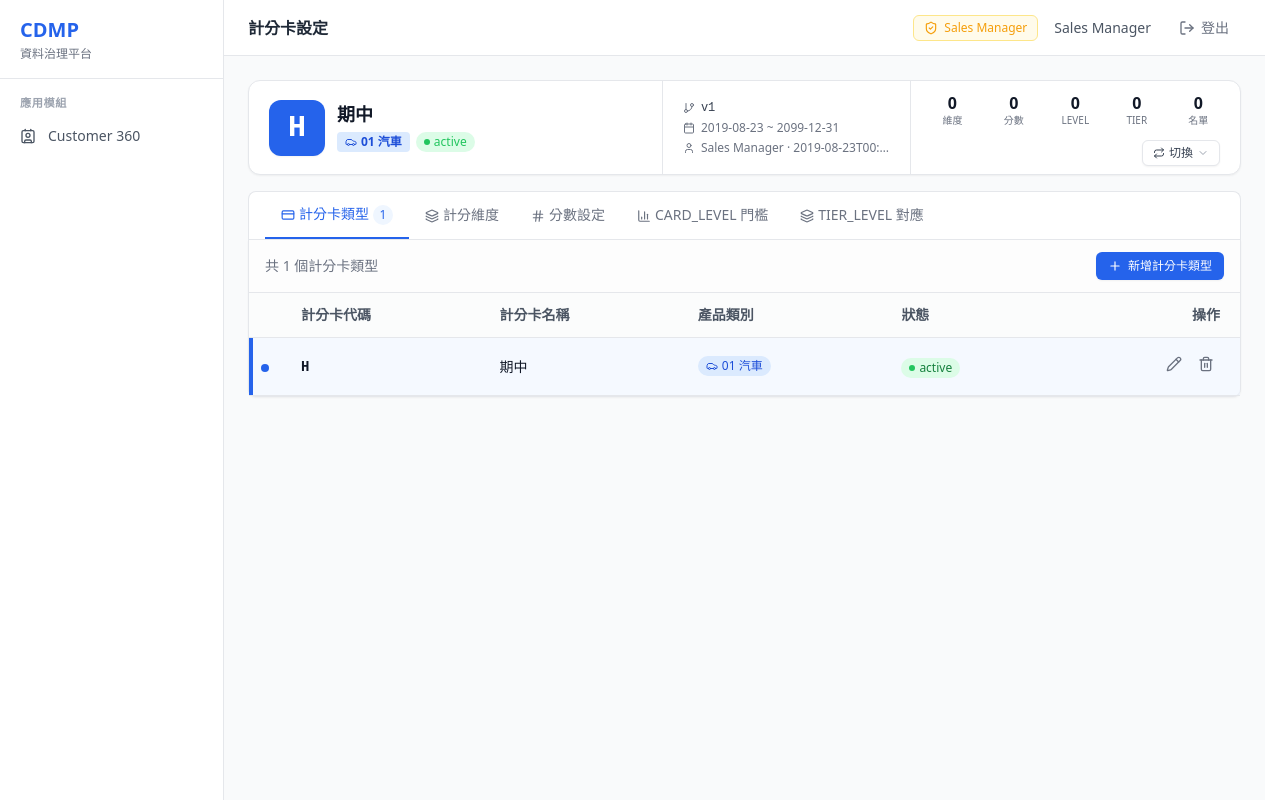
it: ScoringConfigPage — F054 寫入互動 › TS-F054-019：點擊「新增維度」開啟 Modal，必填驗證
Expected: the row with test id "card-type-row-H" is shown, [249,338,1240,396]
Click the button with test id "tab-dim": point(462, 216) [409,192,515,238]
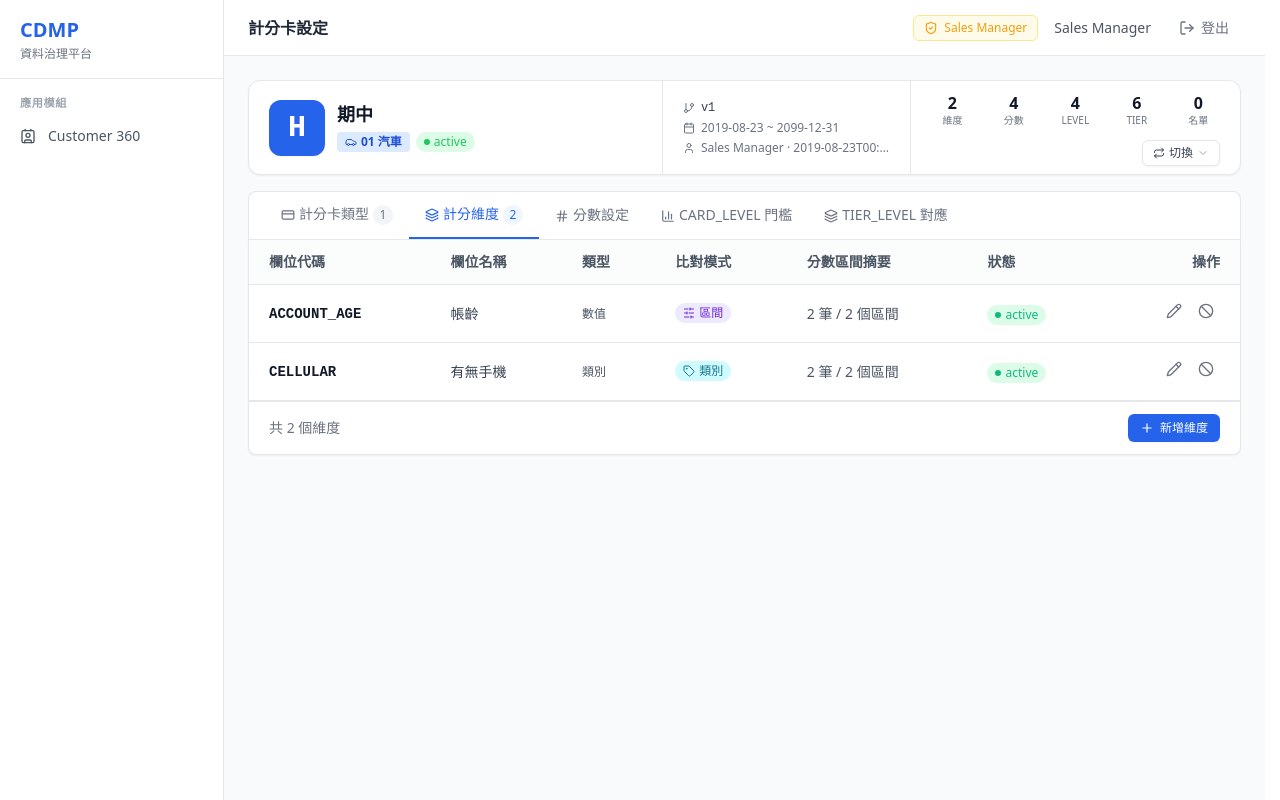
Now the button with test id "btn-add-dim" is shown
Click the button with test id "btn-add-dim": point(1174, 428) [1128,414,1220,442]
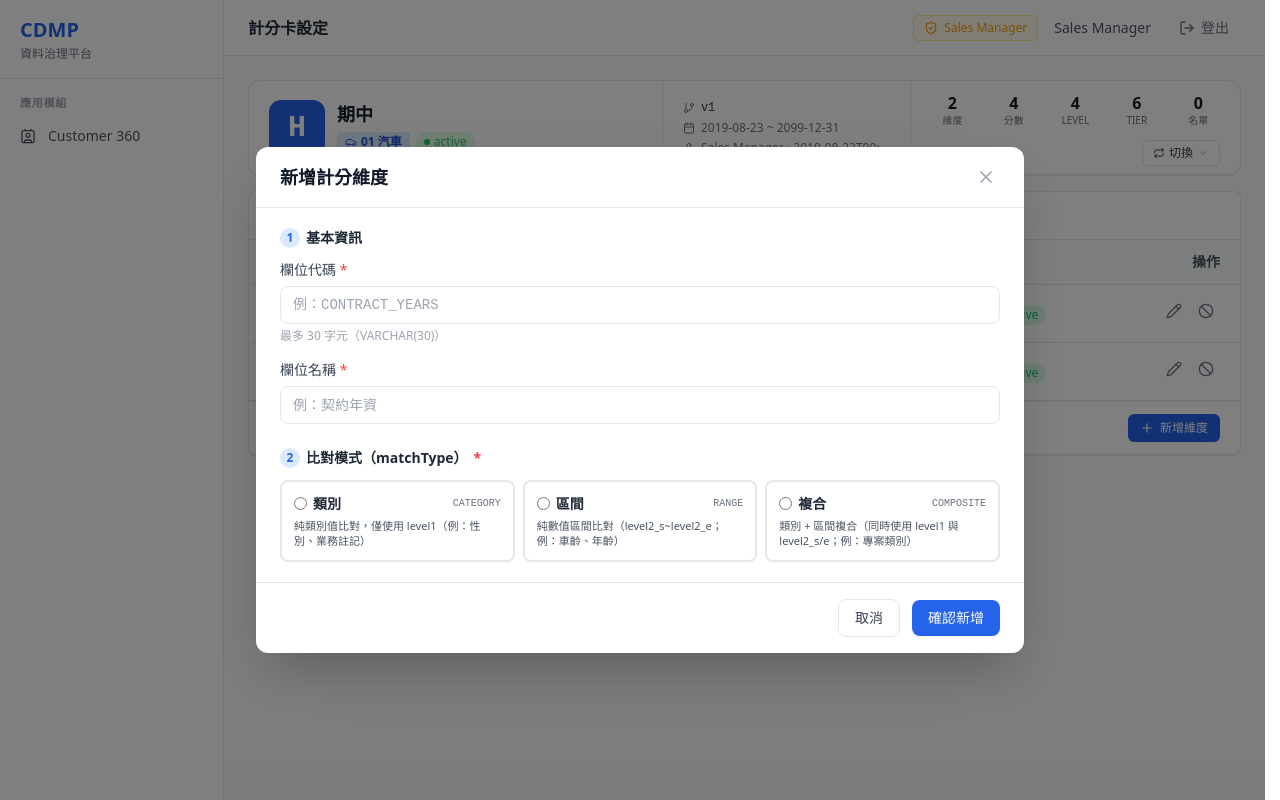
Now the element with test id "dim-modal" is shown, box [256,147,1024,653]
Click the button with test id "dim-modal-submit": point(956, 618) [912,600,1000,636]
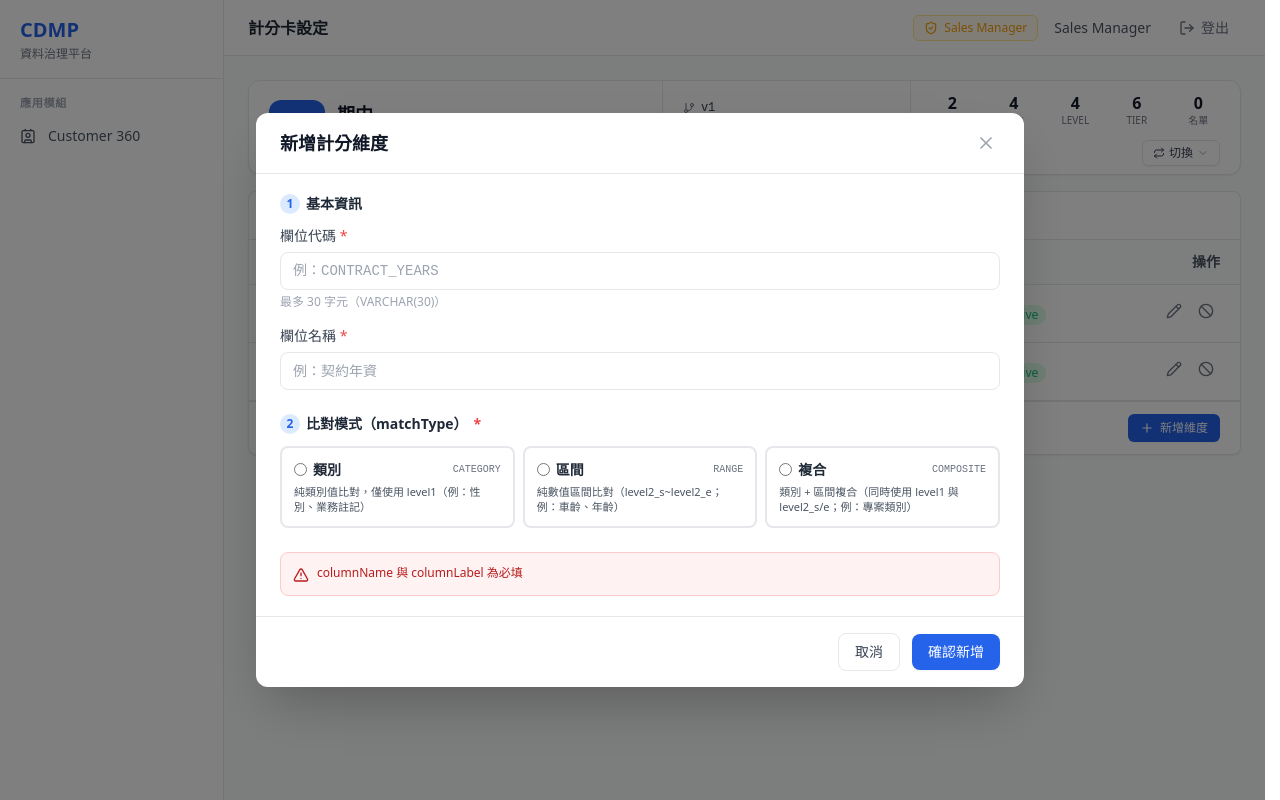
Now the element with test id "dim-modal-error" is shown, box [280,552,1000,596]
Now the element with test id "dim-modal-error" shows "columnName", box [317,564,523,581]
